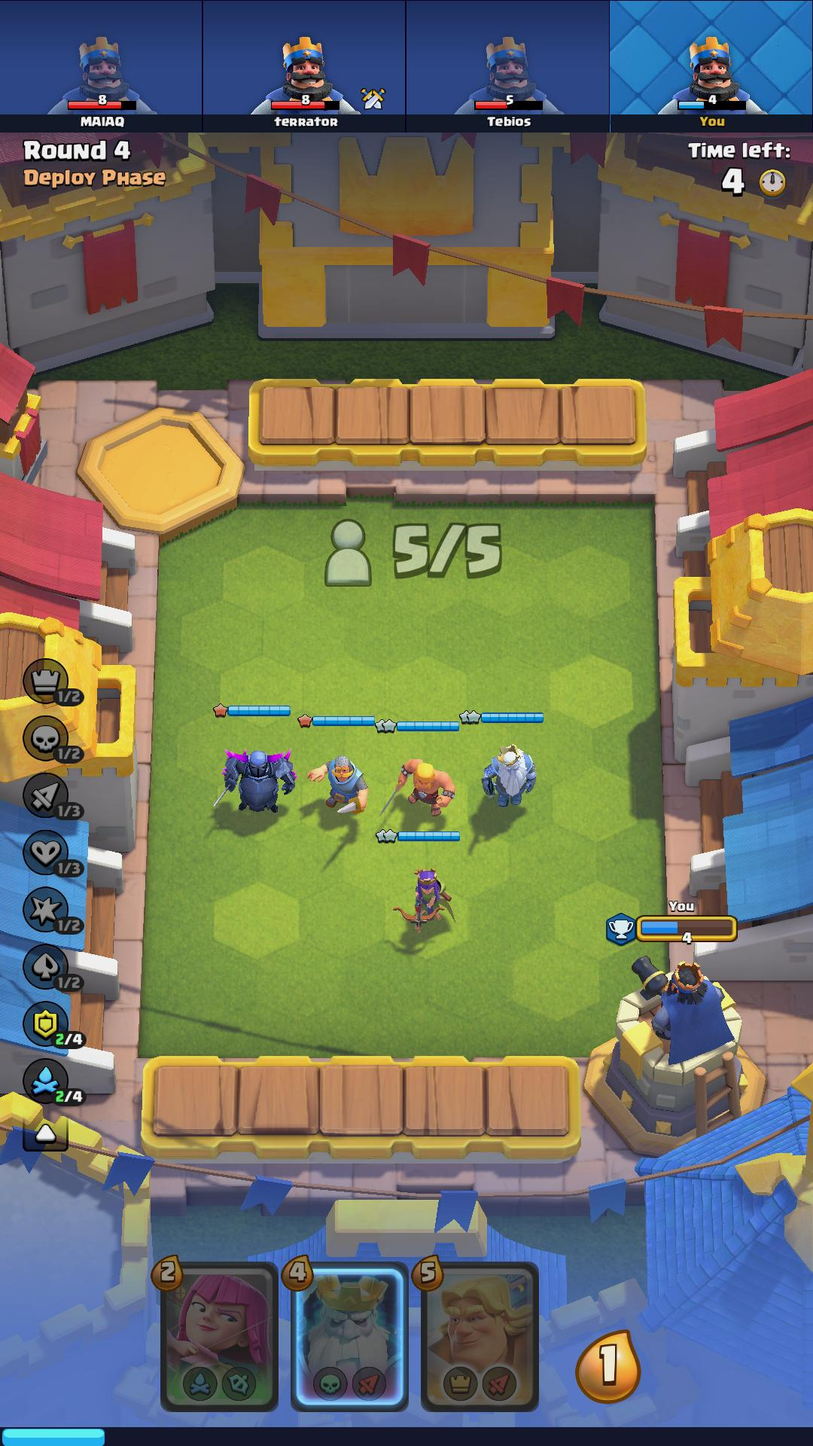barbarian: (393, 748, 459, 817)
ghost: (472, 738, 542, 816)
hand-archer: (159, 1265, 276, 1412)
hand-ghost: (294, 1264, 408, 1408)
hand-golden: (420, 1264, 541, 1406)
knight: (302, 742, 369, 825)
pekka: (208, 732, 302, 821)
queen: (381, 860, 458, 938)
